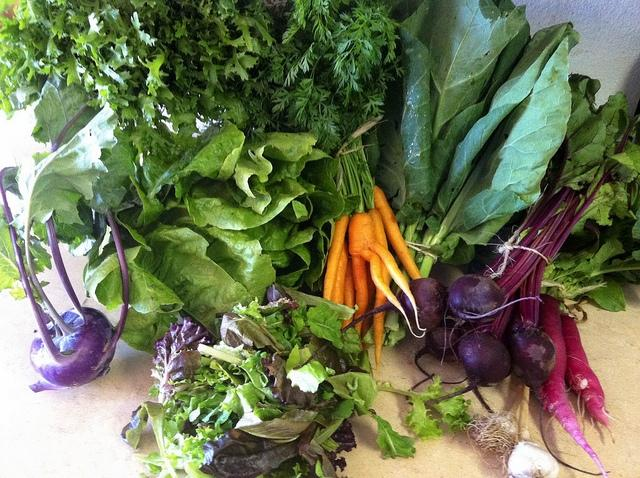carrot: (340, 153, 428, 341), (352, 148, 389, 373), (372, 185, 422, 280), (323, 216, 349, 300), (332, 241, 348, 304), (342, 253, 355, 328)
